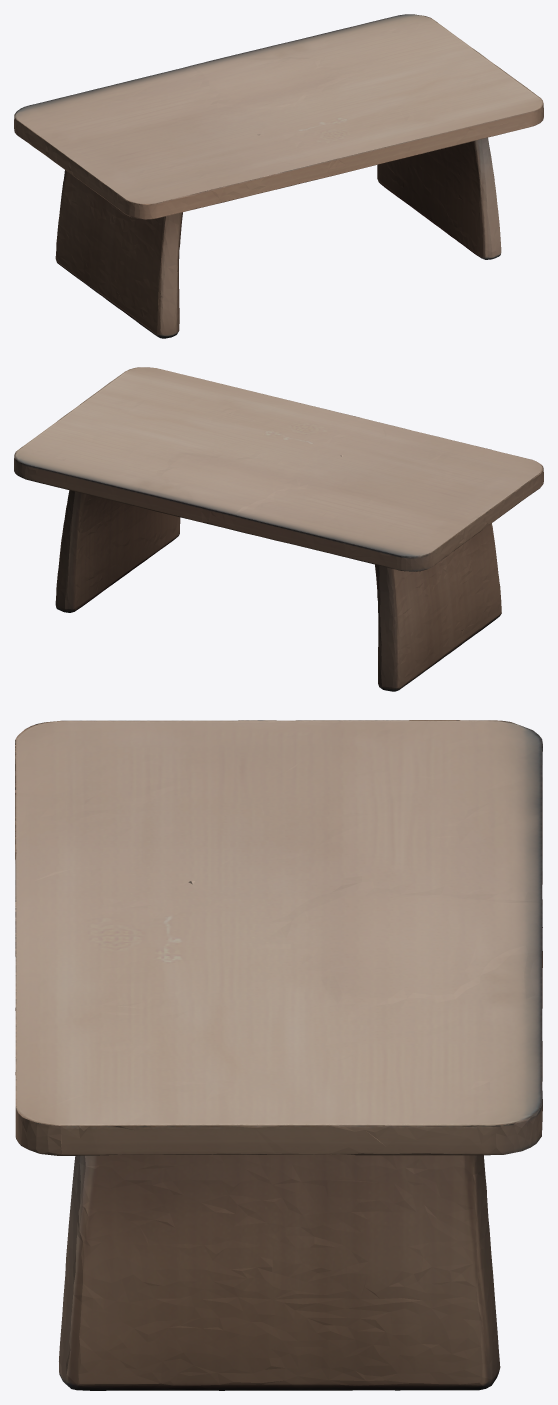
The picture shows the model from 3 angles, top to bottom: view 1: azimuth 30°, elevation 25°; view 2: azimuth 150°, elevation 25°; view 3: azimuth 270°, elevation 25°; orthographic projection. The views are drawn at different scales.
Parts seen in each view (by area): view 1: world; view 2: world; view 3: world.
Part boxes in pixels (left/top/right/bottom): world: left=14, top=14, right=543, bottom=338; world: left=14, top=367, right=543, bottom=691; world: left=15, top=720, right=542, bottom=1390.
Bounding box in the file's own units: 1 × 0.3497 × 0.5499.
1 material, 1 textured.
